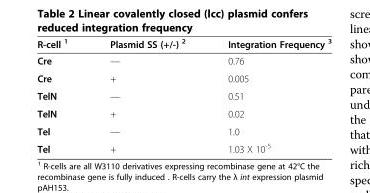table: (36, 36, 331, 154)
table column: (206, 36, 331, 154), (88, 36, 206, 154), (36, 36, 88, 154)
table column header: (36, 36, 331, 52)
table row: (36, 86, 331, 104), (36, 104, 331, 122), (36, 52, 331, 69), (36, 69, 331, 86), (36, 122, 331, 139), (36, 36, 331, 52), (36, 139, 331, 154)
